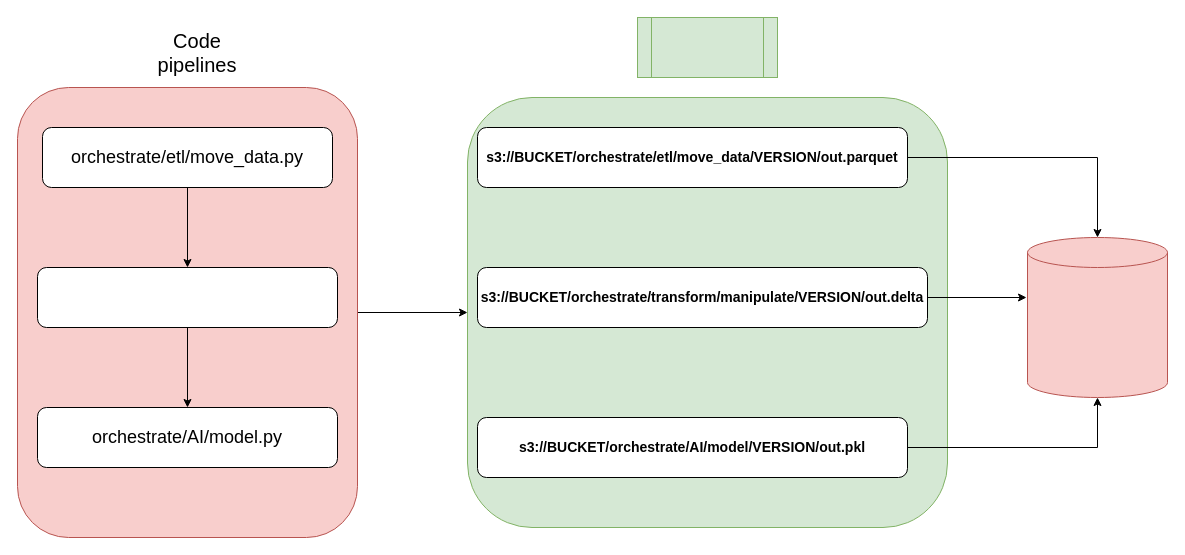
Image size: 1185x555. Some labels were removed from this diagram. Here are the shapes that lost their labels. From the top down, the centre of each, then its label:
At [707,47]: "FSMirror".
At [187,297]: "orchestrate/transform/manipulate.py".
At [1097,317]: "Object Store".
